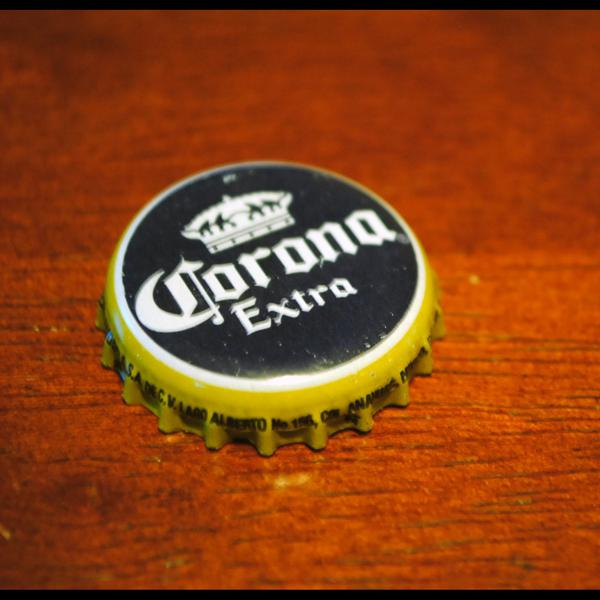corona: (90, 147, 456, 474)
